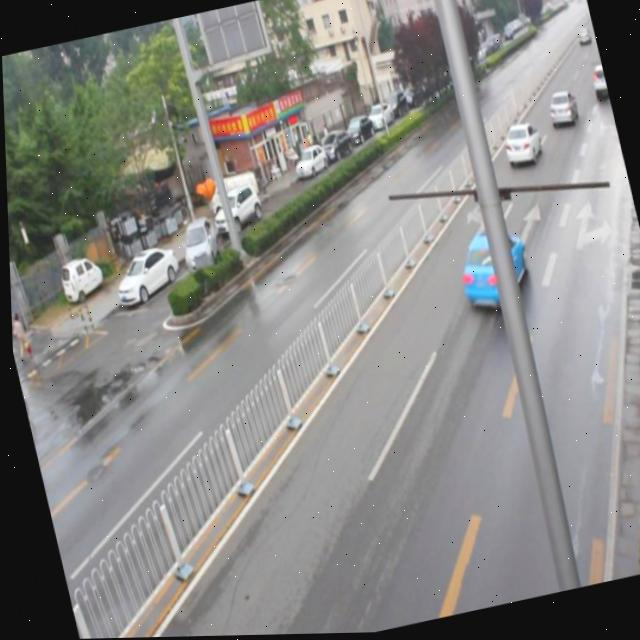car: (450, 222, 531, 316), (498, 121, 542, 171), (541, 89, 579, 132), (587, 69, 608, 103)
